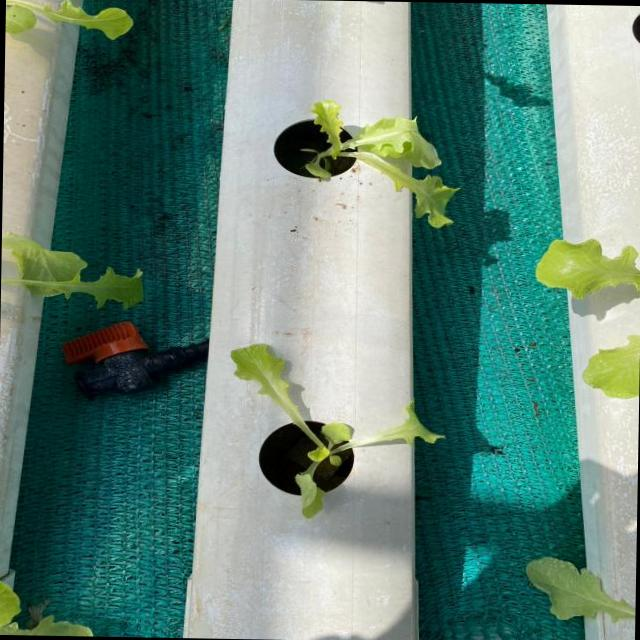Lettuce-Not-Ready-to-Harvest: (228, 346, 446, 514), (302, 94, 461, 233)
